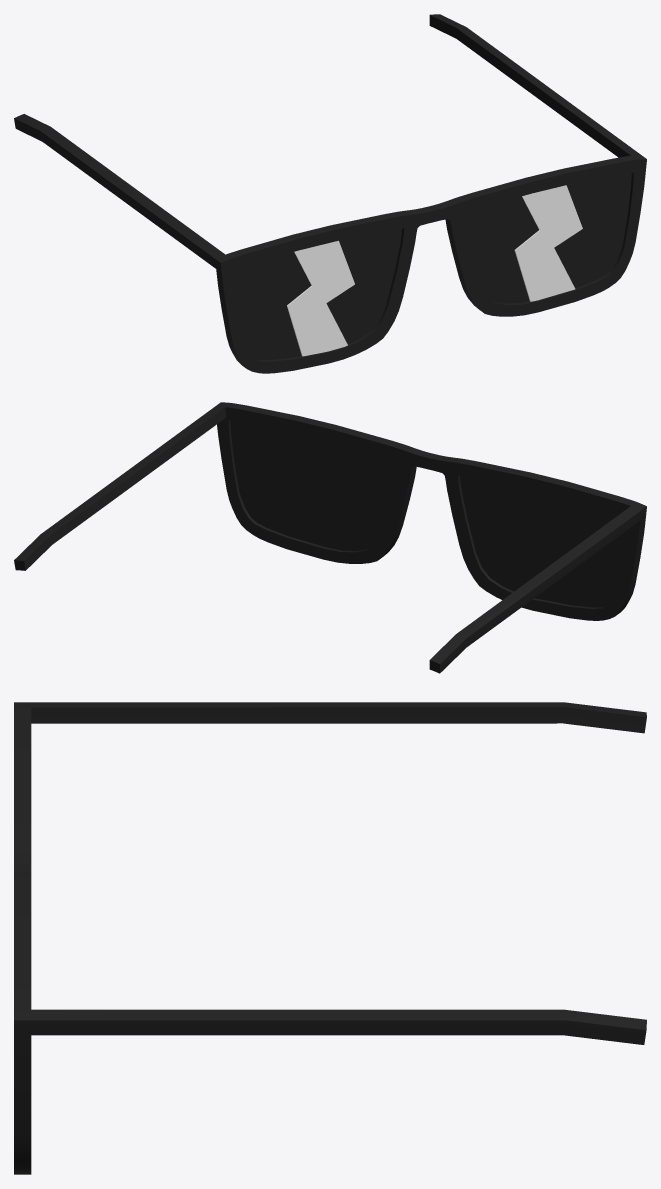
The model's file is sunglasses.glb.
The picture shows the model from 3 angles, top to bottom: view 1: azimuth 30°, elevation 25°; view 2: azimuth 150°, elevation 25°; view 3: azimuth 270°, elevation 25°; orthographic projection. The views are drawn at different scales.
Parts seen in each view (by area): view 1: Plane.100; view 2: Plane.100; view 3: Plane.100.
Boxes of the visible parts, left/top/right/bottom form: Plane.100: left=14, top=14, right=646, bottom=373; Plane.100: left=14, top=402, right=646, bottom=673; Plane.100: left=14, top=702, right=646, bottom=1174.
Size of the model in its own units: 2 by 0.5924 by 1.68.
Materials: 1 (1 with a texture image).
